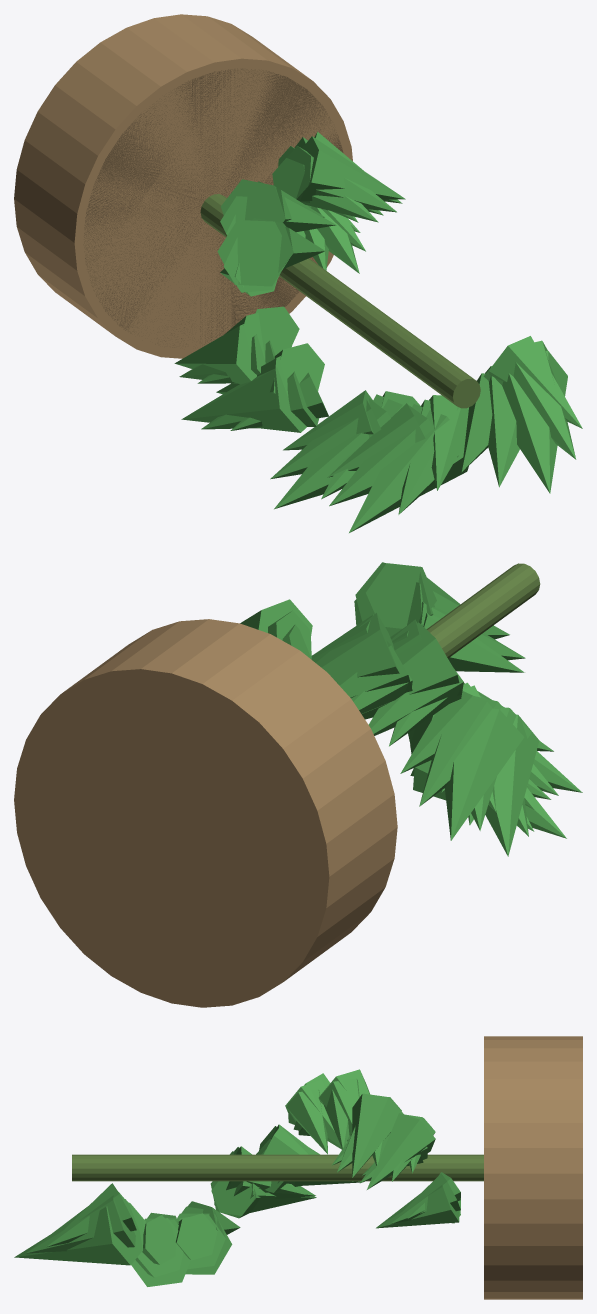
The model's file is stage_4_vegetativa_completa.glb.
The picture shows the model from 3 angles, top to bottom: view 1: azimuth 30°, elevation 25°; view 2: azimuth 150°, elevation 25°; view 3: azimuth 270°, elevation 25°; orthographic projection. The views are drawn at different scales.
Visible parts, largest first — view 1: world; view 2: world; view 3: world.
Part boxes in pixels (x1,y1,x2,y2): world: [14, 14, 582, 532]; world: [14, 562, 582, 1007]; world: [14, 1036, 582, 1299].
Bounding box in the file's own units: 16 × 16 × 34.51.
